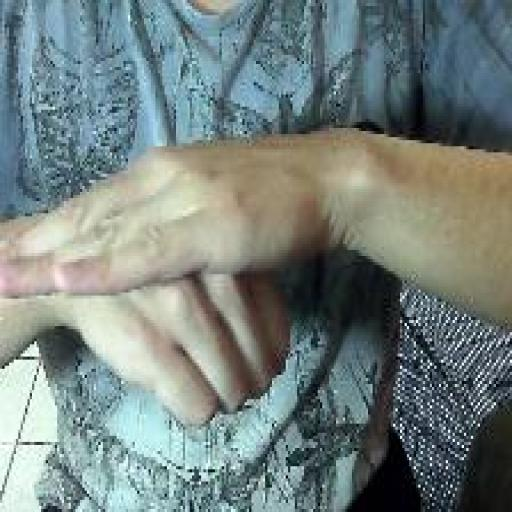Inu -dog-: (0, 139, 297, 434)
